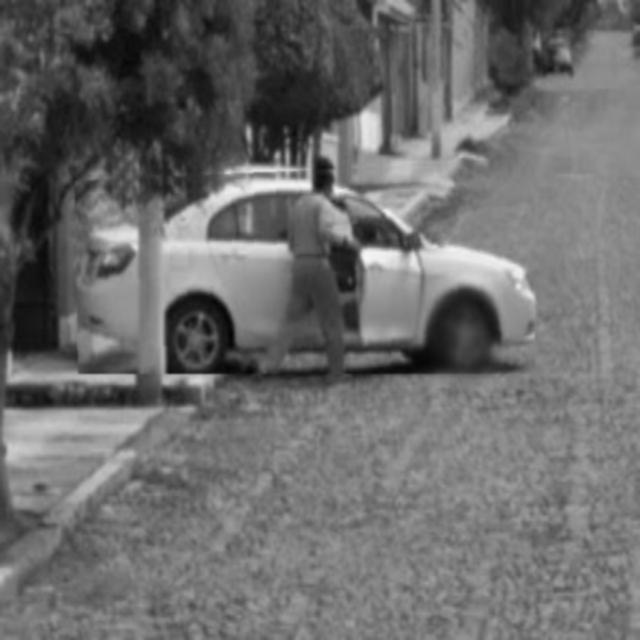car: (76, 161, 536, 375)
